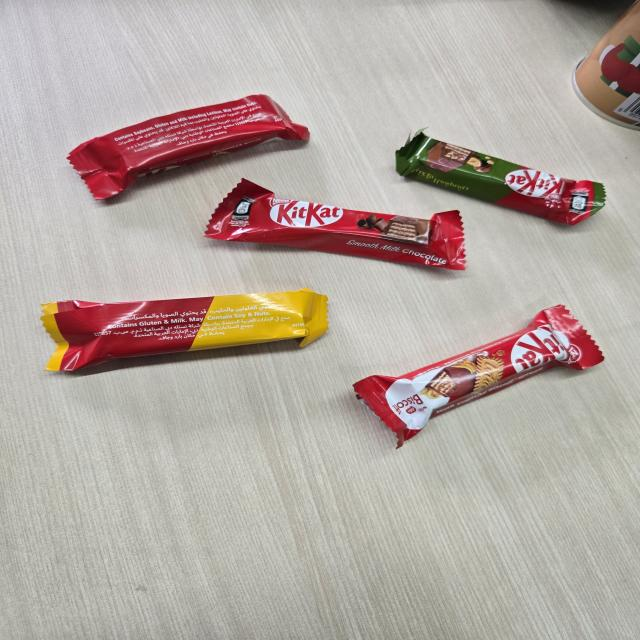chocolate-bar: (350, 298, 608, 456), (61, 91, 318, 207), (34, 284, 335, 376), (205, 178, 469, 275), (390, 121, 609, 232)
